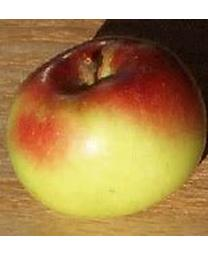apple: (7, 36, 205, 222)
